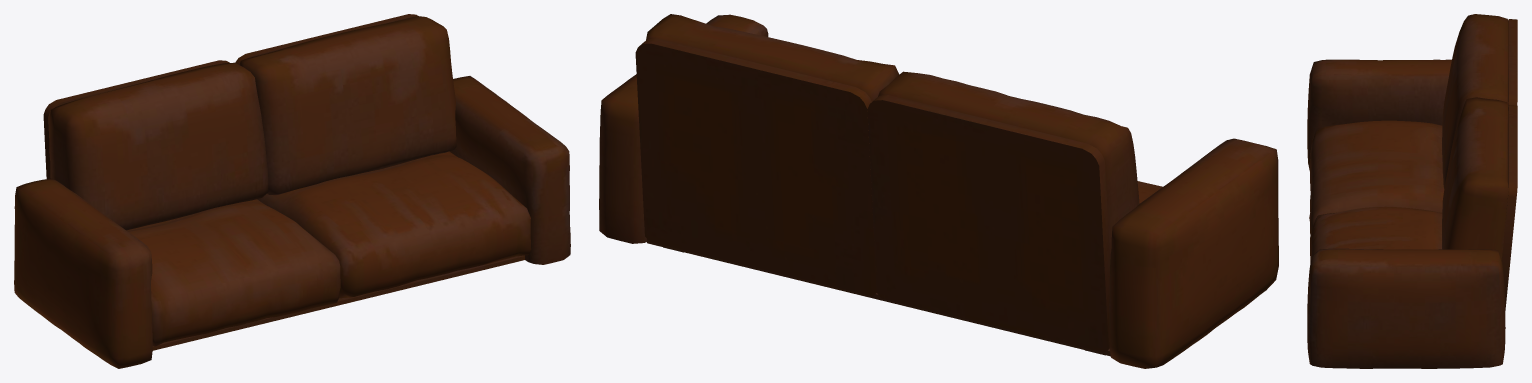
File: SM_Sofa_Double_01.glb
The picture shows the model from 3 angles, left to right: view 1: azimuth 30°, elevation 25°; view 2: azimuth 150°, elevation 25°; view 3: azimuth 270°, elevation 25°; orthographic projection. The views are drawn at different scales.
Parts seen in each view (by area): view 1: SM_Sofa_Double_01; view 2: SM_Sofa_Double_01; view 3: SM_Sofa_Double_01.
Part boxes in pixels (box(x1,y1,x2,y2)): SM_Sofa_Double_01: box(14, 14, 570, 368); SM_Sofa_Double_01: box(599, 14, 1278, 368); SM_Sofa_Double_01: box(1307, 14, 1517, 368).
Bounding box in the file's own units: 2.96 × 1.1 × 1.22.
Materials: 1 (1 with a texture image).
